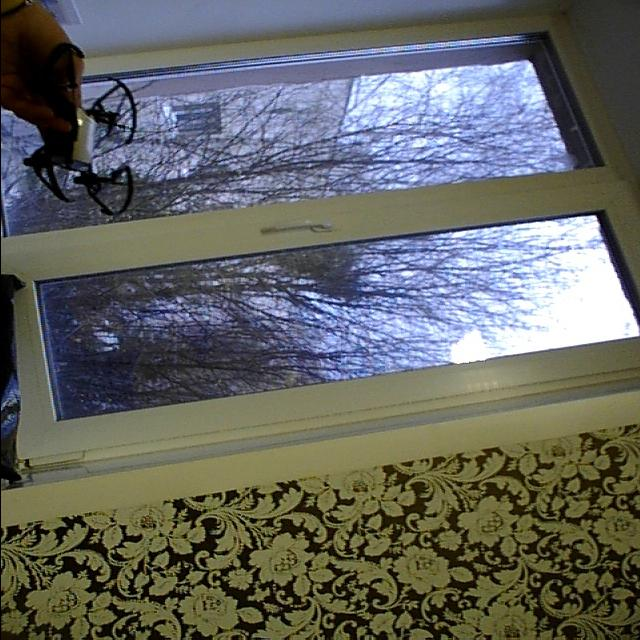drone: (24, 40, 140, 224)
